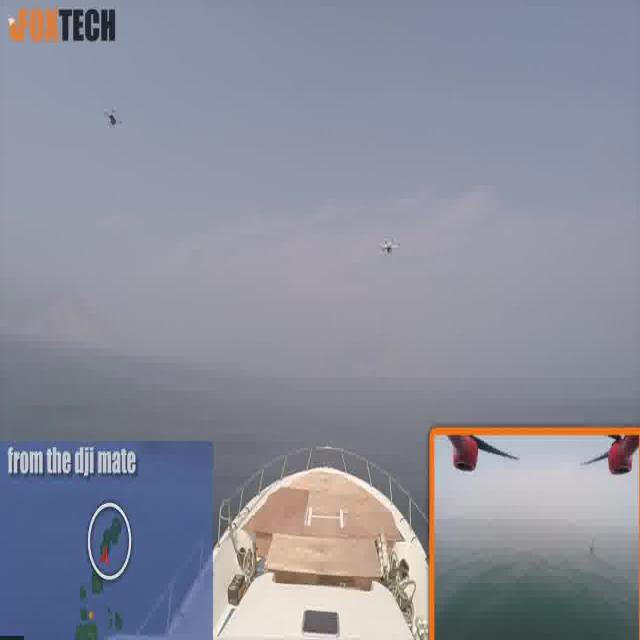drone: (375, 232, 404, 270)
